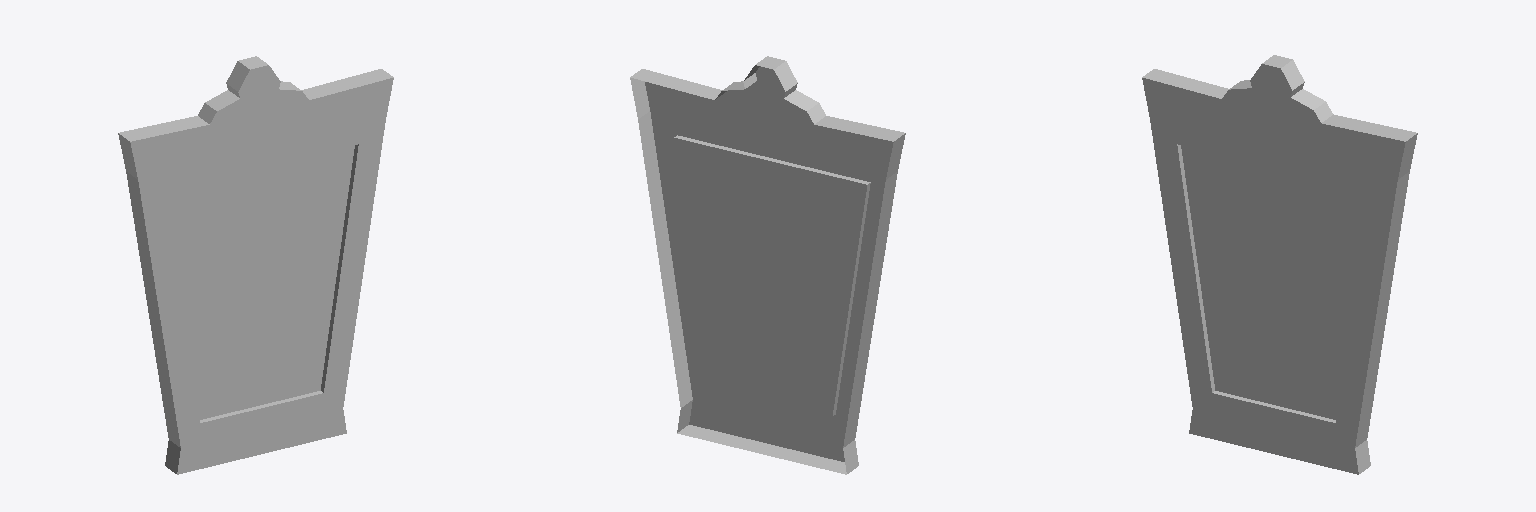
The model's file is frameFancy.obj.
3 views of the same model, side by side, from view 1: azimuth 30°, elevation 25°; view 2: azimuth 150°, elevation 25°; view 3: azimuth 330°, elevation 25° (orthographic).
Visible parts, largest first — view 1: FrameFancy_scene1; view 2: FrameFancy_scene1; view 3: FrameFancy_scene1.
Part boxes in pixels (x1,y1,x2,y2): FrameFancy_scene1: (118, 56, 393, 474); FrameFancy_scene1: (630, 56, 905, 474); FrameFancy_scene1: (1142, 55, 1417, 474).
Size of the model in its own units: 31.57 by 44.32 by 2.54.